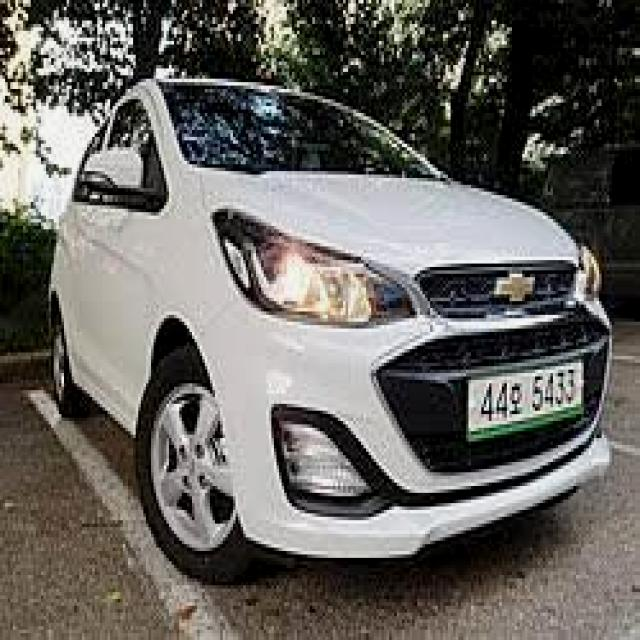car: (42, 63, 618, 592)
illegal_plate: (464, 352, 587, 438)
